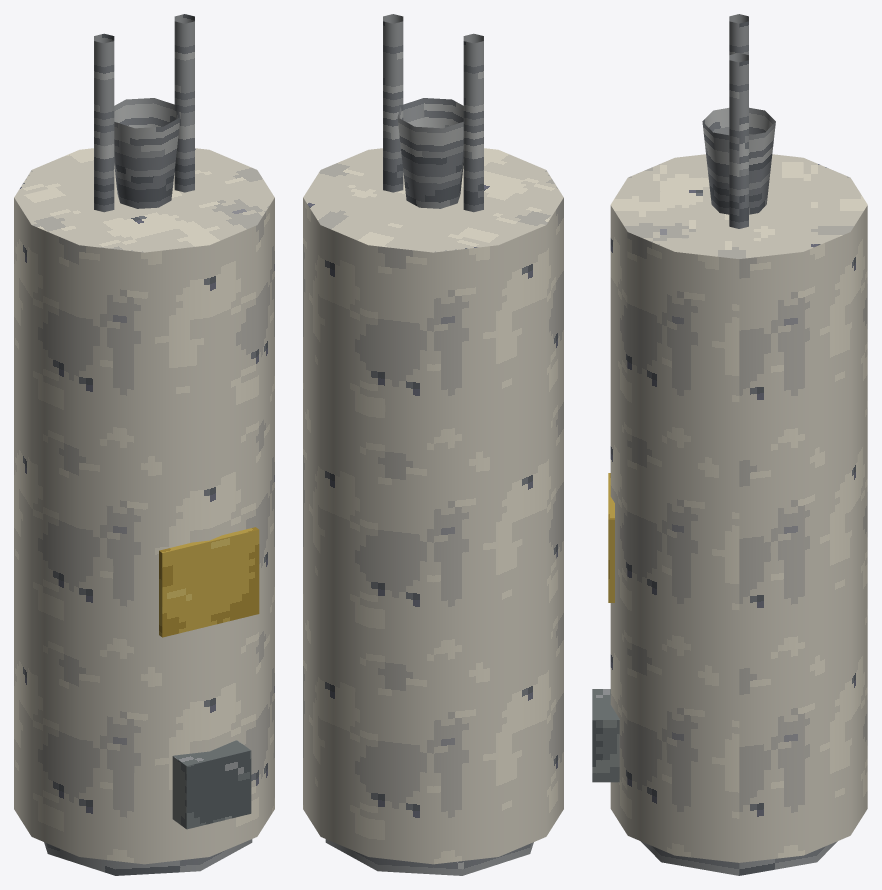
The model's file is RES_WaterHeater.obj.
The picture shows the model from 3 angles, left to right: view 1: azimuth 30°, elevation 25°; view 2: azimuth 150°, elevation 25°; view 3: azimuth 270°, elevation 25°; orthographic projection.
Visible parts, largest first — view 1: RES_WaterHeater_Mesh_M_Town_PaintWhite, RES_WaterHeater_Mesh_M_Furn_MetalBrushed, RES_WaterHeater_Mesh_M_Town_PaintYellow, RES_WaterHeater_Mesh_M_Com_SignageBacking; view 2: RES_WaterHeater_Mesh_M_Town_PaintWhite, RES_WaterHeater_Mesh_M_Furn_MetalBrushed; view 3: RES_WaterHeater_Mesh_M_Town_PaintWhite, RES_WaterHeater_Mesh_M_Furn_MetalBrushed, RES_WaterHeater_Mesh_M_Com_SignageBacking, RES_WaterHeater_Mesh_M_Town_PaintYellow.
Boxes of the visible parts, box(x1,y1,x2,y2) form: RES_WaterHeater_Mesh_M_Town_PaintWhite: box(14, 148, 274, 864); RES_WaterHeater_Mesh_M_Furn_MetalBrushed: box(44, 14, 252, 875); RES_WaterHeater_Mesh_M_Town_PaintYellow: box(159, 527, 259, 637); RES_WaterHeater_Mesh_M_Com_SignageBacking: box(172, 740, 251, 829); RES_WaterHeater_Mesh_M_Town_PaintWhite: box(303, 148, 563, 864); RES_WaterHeater_Mesh_M_Furn_MetalBrushed: box(325, 14, 533, 875); RES_WaterHeater_Mesh_M_Town_PaintWhite: box(610, 154, 867, 862); RES_WaterHeater_Mesh_M_Furn_MetalBrushed: box(640, 14, 837, 875); RES_WaterHeater_Mesh_M_Com_SignageBacking: box(592, 689, 619, 782); RES_WaterHeater_Mesh_M_Town_PaintYellow: box(608, 473, 614, 602).
Bounding box in the file's own units: 0.56 × 1.9 × 0.6.
4 materials, 4 textured.
